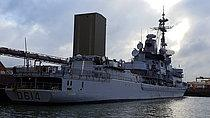MIL_Ship: (7, 11, 188, 104)
